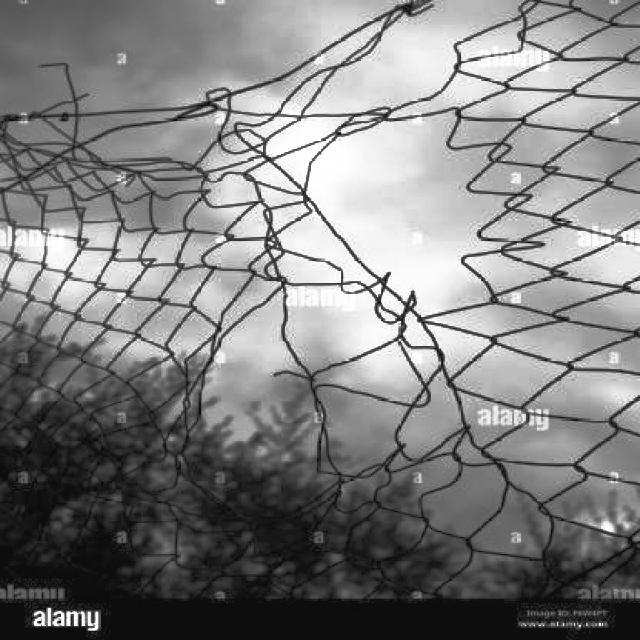anomaly-fence: (0, 0, 546, 497)
